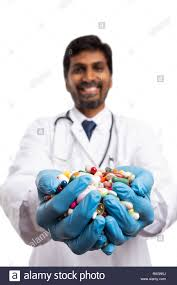Indian_Male: (64, 36, 118, 106)
